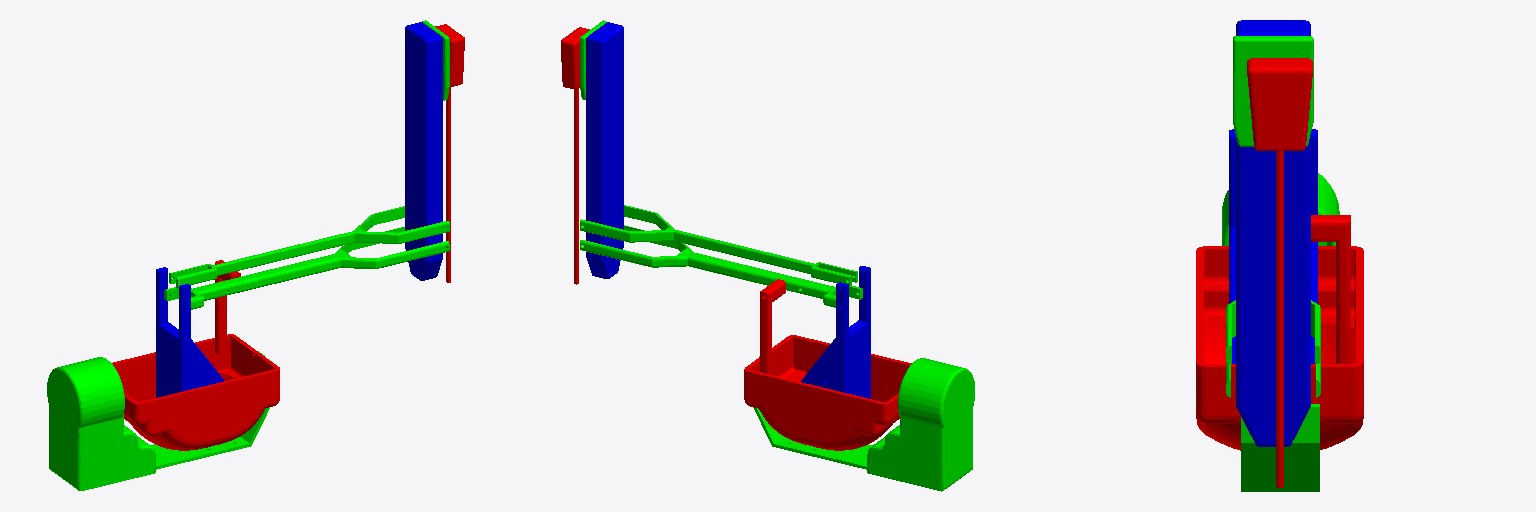
The robot description file, URDF, robot "daVinci":
<?xml version="1.0" encoding="utf-8"?>
<robot name="daVinci">

  <!-- /// LINKS ///////////////////////////////////////////// -->
  <!-- /////////////////////////////////////////////////////// -->
  
  <!-- 0: 80/20 table -->
  <link name="mounting_platform">
    <inertial>
      <mass value="0.01"/>
      <origin xyz="0 0 0"/>
      <inertia ixx="1.0" ixy="0.0" ixz="0.0" iyy="1.0" iyz="0.0" izz="1.0"/>
    </inertial>
    <visual>
      <origin rpy="0 0 0" xyz="0 0 0"/>
      <geometry>
        <mesh filename="package://daVinciCore/meshes/slave_frame.dae"/>      
      </geometry>
    </visual>
    <collision>
      <origin rpy="0 0 0" xyz="0 0 1.0"/>
      <geometry>
        <mesh filename="package://daVinciCore/meshes/slave_frame.dae"/>      
      </geometry>
    </collision>
  </link>  

  <!-- 1: PSM base -->
  <link name="mounting_base_link">
    <inertial>
      <mass value="0.01"/>
      <origin xyz="0 0 0"/>
      <inertia ixx="1.0" ixy="0.0" ixz="0.0" iyy="1.0" iyz="0.0" izz="1.0"/>
    </inertial>
    <visual>
      <origin rpy="0 0 0" xyz="0 0 0"/>
      <geometry>
        <mesh filename="package://daVinciCore/meshes/mounting_base.dae"/>      
      </geometry>
      <material name="green">
        <color rgba="0 1 0 1"/>
      </material>
    </visual>
    <collision>
      <origin rpy="0 0 0" xyz="0 0 0"/>
      <geometry>
        <mesh filename="package://daVinciCore/meshes/mounting_base.dae"/>      
      </geometry>
    </collision>
  </link>

  <!-- 2: outer_yaw -->
  <link name="outer_yaw_link">
    <inertial>
      <mass value="0.01"/>
      <origin xyz="0.001 -0.1 -0.1375"/>
      <inertia ixx="1.0" ixy="0.0" ixz="0.0" iyy="1.0" iyz="0.0" izz="1.0"/>
    </inertial>
    <visual>
      <origin rpy="0 0 0" xyz="0.001 -0.1 -0.1375"/>
      <geometry>
        <mesh filename="package://daVinciCore/meshes/outer_yaw.dae"/>      
      </geometry>
      <material name="red">
        <color rgba="1 0 0 1"/>
      </material>
    </visual>
    <collision>
      <origin rpy="0 0 0" xyz="0.001 -0.1 -0.1375"/>
      <geometry>
        <mesh filename="package://daVinciCore/meshes/outer_yaw.dae"/>      
      </geometry>
    </collision>
  </link>

  <!-- 3-1: outter_pitch_base -->
  <link name="outer_pitch_base_link">
    <inertial>
      <mass value="0.01"/>
      <origin xyz="-0.040 -0.130 -0.0901"/>
      <inertia ixx="1.0" ixy="0.0" ixz="0.0" iyy="1.0" iyz="0.0" izz="1.0"/>
    </inertial>
    <visual>
      <origin rpy="0 0 0" xyz="-0.040 -0.130 -0.0901"/>
      <geometry>
        <mesh filename="package://daVinciCore/meshes/outer_pitch_base.dae"/>      
      </geometry>
      <material name="blue">
        <color rgba="0 0 1 1"/>
      </material>
    </visual>
    <collision>
      <origin rpy="0 0 0" xyz="-0.040 -0.130 -0.0901"/>
      <geometry>
        <mesh filename="package://daVinciCore/meshes/outer_pitch_base.dae"/>      
      </geometry>
    </collision>
  </link>

  <!-- 3-2: outer_pitch_front -->
  <link name="outer_pitch_front_link">
    <inertial>
      <mass value="0.01"/>
      <origin xyz="0 -0.066 -0.010"/>
      <inertia ixx="1.0" ixy="0.0" ixz="0.0" iyy="1.0" iyz="0.0" izz="1.0"/>
    </inertial>
    <visual>
      <origin rpy="0 0 0" xyz="0 -0.066 -0.010"/>
      <geometry>
        <mesh filename="package://daVinciCore/meshes/outer_pitch_front.dae"/>      
      </geometry>
      <material name="red"/>
    </visual>
    <collision>
      <origin rpy="0 0 0" xyz="0 -0.066 -0.010"/>
      <geometry>
        <mesh filename="package://daVinciCore/meshes/outer_pitch_front.dae"/>      
      </geometry>
    </collision>
  </link>

  <!-- 3-3: outer_pitch_bottom -->
  <link name="outer_pitch_bottom_link">
    <inertial>
      <mass value="0.01"/>
      <origin xyz="0 -0.093 -0.010"/>
      <inertia ixx="1.0" ixy="0.0" ixz="0.0" iyy="1.0" iyz="0.0" izz="1.0"/>
    </inertial>
    <visual>
      <origin rpy="0 0 0" xyz="0 -0.093 -0.010"/>
      <geometry>
        <mesh filename="package://daVinciCore/meshes/outer_pitch_bottom.dae"/>      
      </geometry>
      <material name="green"/>
    </visual>
    <collision>
      <origin rpy="0 0 0" xyz="0 -0.093 -0.010"/>
      <geometry>
        <mesh filename="package://daVinciCore/meshes/outer_pitch_bottom.dae"/>      
      </geometry>
    </collision>
  </link>

  <!-- 3-4: outer_pitch_top -->
  <link name="outer_pitch_top_link">
    <inertial>
      <mass value="0.01"/>
      <origin xyz="0 -0.093 -0.010"/>
      <inertia ixx="1.0" ixy="0.0" ixz="0.0" iyy="1.0" iyz="0.0" izz="1.0"/>
    </inertial>
    <visual>
      <origin rpy="0 0 0" xyz="0 -0.093 -0.010"/>
      <geometry>
        <mesh filename="package://daVinciCore/meshes/outer_pitch_top.dae"/>      
      </geometry>
      <material name="green"/>
    </visual>
    <collision>
      <origin rpy="0 0 0" xyz="0 -0.093 -0.010"/>
      <geometry>
        <mesh filename="package://daVinciCore/meshes/outer_pitch_top.dae"/>      
      </geometry>
    </collision>
  </link>

  <!-- 3-5: outer_insertion_link -->
  <link name="outer_insertion_link">
    <inertial>
      <mass value="0.01"/>
      <origin xyz="-0.031 -0.086 -0.070"/>
      <inertia ixx="1.0" ixy="0.0" ixz="0.0" iyy="1.0" iyz="0.0" izz="1.0"/>
    </inertial>
    <visual>
      <origin rpy="0 0 0" xyz="-0.031 -0.086 -0.070"/>
      <geometry>
        <mesh filename="package://daVinciCore/meshes/outer_insertion.dae"/>
      </geometry>
      <material name="blue"/>
    </visual>
    <collision>
      <origin rpy="0 0 0" xyz="-0.031 -0.086 -0.070"/>
      <geometry>
        <mesh filename="package://daVinciCore/meshes/outer_insertion.dae"/>      
      </geometry>
    </collision>
  </link>

  <!-- 4: tool_adapter_link -->
  <link name="tool_adaptor_link">
    <inertial>
      <mass value="0.01"/>
      <origin xyz="0 -0.041 0"/>
      <inertia ixx="1.0" ixy="0.0" ixz="0.0" iyy="1.0" iyz="0.0" izz="1.0"/>
    </inertial>
    <visual>
      <origin rpy="0 0 0" xyz="0 -0.041 0"/>
      <geometry>
        <mesh filename="package://daVinciCore/meshes/tool_adaptor.dae"/>
      </geometry>
      <material name="green"/>
    </visual>
    <collision>
      <origin rpy="0 0 0" xyz="0 -0.041 0"/>
      <geometry>
        <mesh filename="package://daVinciCore/meshes/tool_adaptor.dae"/>
      </geometry>
    </collision>
  </link>

  <!-- 5: tool_link -->
  <link name="tool_link">
    <inertial>
      <mass value="0.01"/>
      <origin xyz="0 -0.034 0"/>
      <inertia ixx="1.0" ixy="0.0" ixz="0.0" iyy="1.0" iyz="0.0" izz="1.0"/>
    </inertial>
    <visual>
      <origin rpy="0 0 0" xyz="0 -0.034 0"/>
      <geometry>
        <mesh filename="package://daVinciCore/meshes/tool_asm.dae"/>
      </geometry>
      <material name="red"/>
    </visual>
    <collision>
      <origin rpy="0 0 0" xyz="0 -0.034 0"/>
      <geometry>
        <mesh filename="package://daVinciCore/meshes/tool_asm.dae"/>
      </geometry>
    </collision>
  </link>


  <!-- /// JOINTS///////////////////////////////////////////// -->
  <!-- /////////////////////////////////////////////////////// -->
  
  <!-- joint 0: fixed offset only -->
  <joint name="mounting_base_joint" type="fixed">
    <parent link="mounting_platform"/>
    <child link="mounting_base_link"/>
    <origin rpy="0 0 0" xyz="0.38114 1.03237 1.60767"/>
  </joint>

  <!-- joint 1 -->
  <joint name="outer_yaw_joint" type="revolute">
    <parent link="mounting_base_link"/>
    <child link="outer_yaw_link"/>
    <axis xyz="1 0 0"/>
    <origin rpy="0 0 0" xyz="0.094 0.0525 0.147"/>
    <limit lower="-1.5707" upper="1.5707" velocity=".4" effort="1000"/>
    <dynamics damping="0.1"/>
  </joint> 

  <!-- TODO: should be revolute joint with limits -->
  <!-- joint 2-1: outer_pitch_base_joint -->
  <joint name="outer_pitch_base_joint" type="revolute">
    <parent link="outer_yaw_link"/>
    <child link="outer_pitch_base_link"/>
    <axis xyz="0 1 0"/>
    <origin rpy="0 0 0" xyz="0.150 0.085 0.0"/>
    <limit lower="-0.7854" upper="0.7854" velocity=".4" effort="1000"/>
    <dynamics damping="0.1"/>
  </joint>

  <!-- joint 2-2: outer_pitch_front_joint -->
  <joint name="outer_pitch_front_joint" type="fixed">
    <parent link="outer_pitch_base_link"/>
    <child link="outer_pitch_front_link"/>
    <axis xyz="0 1 0"/>
    <!-- <origin rpy="0 0 0" xyz="0.245 0.085 0"/> -->
    <origin rpy="0 0 0" xyz="0.095 0.0 0.0"/>
    <dynamics damping="0.1"/>
  </joint>
  
  <!-- joint 2-3: outer_pitch_botton_joint -->
  <!-- j_2_5 = -j_2_1 -->
  <joint name="outer_pitch_bottom_joint" type="revolute">
    <axis xyz="0 1 0"/>
    <parent link="outer_pitch_base_link"/>
    <child link="outer_pitch_bottom_link"/>
    <origin rpy="0 0 0" xyz="-0.03 -0.040 0.147"/>
    <limit lower="-0.7854" upper="0.7854" velocity=".4" effort="1000"/>
    <dynamics damping="0.1"/>
  </joint>

  <!-- joint 2-4: outer_pitch_top_joint -->
  <joint name="outer_pitch_top_joint" type="fixed">
    <parent link="outer_pitch_bottom_link"/>
    <child link="outer_pitch_top_link"/>
    <axis xyz="0 1 0"/>
    <origin rpy="0 0 0" xyz="0.000 0.000 0.038"/>
    <dynamics damping="0.1"/>
  </joint>

  <!-- joint 2-5: outer_insertion_joint -->
  <!-- j_2_5 = j_2_1 -->
  <joint name="outer_insertion_joint" type="revolute">
    <parent link="outer_pitch_bottom_link"/>
    <child link="outer_insertion_link"/>
    <axis xyz="0 1 0"/>
    <origin rpy="0 0 0" xyz="0.510 0.003 0"/>
    <limit lower="-0.7854" upper="0.7854" velocity=".4" effort="1000"/>
    <dynamics damping="0.1"/>
  </joint>

  <!-- joint 3: outer_insertion_joint -->
  <joint name="tool_insertion_joint" type="prismatic">
    <parent link="outer_insertion_link"/>
    <child link="tool_adaptor_link"/>
    <axis xyz="0 0 -1"/>
    <!-- <origin rpy="0 0 0" xyz="0.005 -0.048 -0.200"/> -->
    <origin rpy="0 0 0" xyz="0.005 -0.048 -0.100"/>
    <dynamics damping="0.1"/>
    <limit effort="30" velocity="1.0" lower="0.0" upper="0.25"/>
  </joint>


  <!-- joint 4: fixed tool_joint -->
  <joint name="tool_joint" type="fixed">
    <parent link="tool_adaptor_link"/>
    <child link="tool_link"/>
    <origin rpy="0 0 0" xyz="0.010 0 0"/>
  </joint>

</robot>

--- Facts derived from the render (not from the file) ---
Views: 3 orthographic renders of the robot side by side, from view 1: azimuth 30°, elevation 25°; view 2: azimuth 150°, elevation 25°; view 3: azimuth 270°, elevation 25°.
Model daVinci with 10 links and 9 joints (4 revolute, 1 prismatic, 4 fixed), rooted at mounting_platform, posed every joint at zero.
Visible links, largest first — view 1: mounting_base_link, outer_yaw_link, outer_insertion_link, outer_pitch_base_link, outer_pitch_bottom_link, outer_pitch_top_link, tool_link, outer_pitch_front_link, tool_adaptor_link; view 2: mounting_base_link, outer_yaw_link, outer_insertion_link, outer_pitch_base_link, outer_pitch_top_link, outer_pitch_bottom_link, tool_link, outer_pitch_front_link; view 3: outer_insertion_link, outer_yaw_link, tool_link, mounting_base_link, tool_adaptor_link, outer_pitch_front_link, outer_pitch_base_link, outer_pitch_top_link.
Link boxes in pixels (x1,y1,x2,y2): mounting_base_link: (47,351,269,490); outer_yaw_link: (112,334,279,450); outer_insertion_link: (405,22,442,280); outer_pitch_base_link: (156,267,224,397); outer_pitch_bottom_link: (164,227,449,309); outer_pitch_top_link: (169,206,449,288); tool_link: (435,24,464,282); outer_pitch_front_link: (215,260,240,353); tool_adaptor_link: (422,20,449,100); mounting_base_link: (753,356,974,491); outer_yaw_link: (744,335,911,450); outer_insertion_link: (586,22,623,278); outer_pitch_base_link: (801,266,870,398); outer_pitch_top_link: (580,205,857,286); outer_pitch_bottom_link: (580,225,862,307); tool_link: (561,27,589,284); outer_pitch_front_link: (760,279,785,374); outer_insertion_link: (1236,20,1310,446); outer_yaw_link: (1196,246,1363,450); tool_link: (1247,58,1312,487); mounting_base_link: (1222,173,1339,491); tool_adaptor_link: (1233,36,1313,146); outer_pitch_front_link: (1311,215,1350,363); outer_pitch_base_link: (1229,129,1317,363); outer_pitch_top_link: (1226,300,1320,363).
Size in the robot's own frame: 0.779 by 0.17 by 0.6897 metres.
Meshes: 10 distinct files referenced, 9 mesh visuals loaded (9 Collada DAE); not drawn: 1 (reference not matched to a file when rendering).
